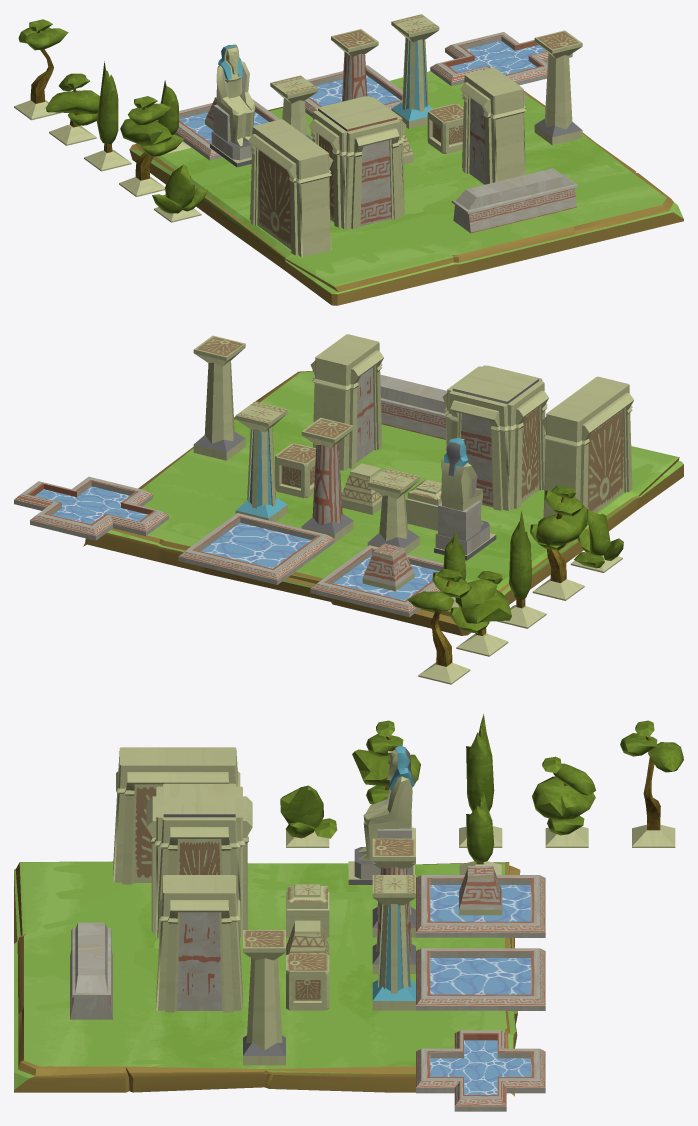
The model's file is blocks.fbx.
The picture shows the model from 3 angles, top to bottom: view 1: azimuth 30°, elevation 25°; view 2: azimuth 150°, elevation 25°; view 3: azimuth 270°, elevation 25°; orthographic projection. The views are drawn at different scales.
Parts seen in each view (by area): view 1: ground, polySurface10, polySurface12, polySurface4, pCube15, polySurface26, statue2, polySurface11, polySurface19, polySurface3, polySurface23, polySurface24 (+8 smaller); view 2: ground, polySurface10, polySurface12, polySurface4, pCube16, polySurface26, polySurface25, statue2, polySurface11, polySurface2, polySurface3, polySurface19 (+10 smaller); view 3: ground, polySurface4, polySurface10, polySurface25, pCube16, polySurface12, polySurface26, polySurface11, polySurface3, pCube15, statue2, polySurface23 (+9 smaller).
Boxes of the visible parts, x1=… form: ground: x1=129, y1=71, x2=683, y2=305; polySurface10: x1=309, y1=96, x2=406, y2=229; polySurface12: x1=248, y1=119, x2=333, y2=257; polySurface4: x1=460, y1=67, x2=527, y2=184; pCube15: x1=451, y1=168, x2=578, y2=233; polySurface26: x1=430, y1=32, x2=572, y2=86; statue2: x1=210, y1=44, x2=255, y2=167; polySurface11: x1=534, y1=30, x2=582, y2=145; polySurface19: x1=119, y1=96, x2=183, y2=196; polySurface3: x1=391, y1=14, x2=439, y2=128; polySurface23: x1=45, y1=73, x2=99, y2=145; polySurface24: x1=14, y1=19, x2=68, y2=120; ground: x1=83, y1=370, x2=683, y2=635; polySurface10: x1=442, y1=365, x2=548, y2=510; polySurface12: x1=541, y1=376, x2=633, y2=517; polySurface4: x1=310, y1=334, x2=383, y2=470; pCube16: x1=178, y1=513, x2=334, y2=584; polySurface26: x1=14, y1=476, x2=168, y2=540; polySurface25: x1=310, y1=543, x2=466, y2=617; statue2: x1=434, y1=437, x2=496, y2=560; polySurface11: x1=193, y1=335, x2=245, y2=460; polySurface2: x1=301, y1=417, x2=353, y2=542; polySurface3: x1=235, y1=401, x2=287, y2=521; polySurface19: x1=530, y1=485, x2=587, y2=600; ground: x1=14, y1=861, x2=520, y2=1096; polySurface4: x1=156, y1=875, x2=242, y2=1012; polySurface10: x1=146, y1=783, x2=252, y2=937; polySurface25: x1=416, y1=866, x2=545, y2=937; pCube16: x1=416, y1=948, x2=545, y2=1010; polySurface12: x1=113, y1=747, x2=240, y2=884; polySurface26: x1=416, y1=1030, x2=545, y2=1111; polySurface11: x1=243, y1=930, x2=285, y2=1065; polySurface3: x1=372, y1=875, x2=415, y2=1010; pCube15: x1=70, y1=922, x2=112, y2=1019; statue2: x1=348, y1=746, x2=414, y2=884; polySurface23: x1=532, y1=756, x2=595, y2=847.
Size of the model in its own units: 15.9 by 4.33 by 15.49.
Materials: 14 (12 with a texture image).
